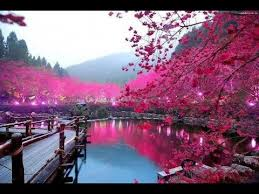flower: (132, 16, 255, 124), (8, 72, 258, 117)
lake: (92, 119, 239, 176)
